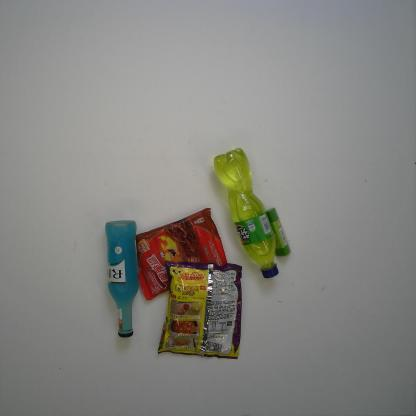Alcohol: (105, 219, 140, 338)
Dessert: (136, 207, 228, 301)
Drink: (213, 148, 280, 280)
Instant Noodles: (156, 259, 243, 361)
Stationery: (266, 207, 291, 257)
